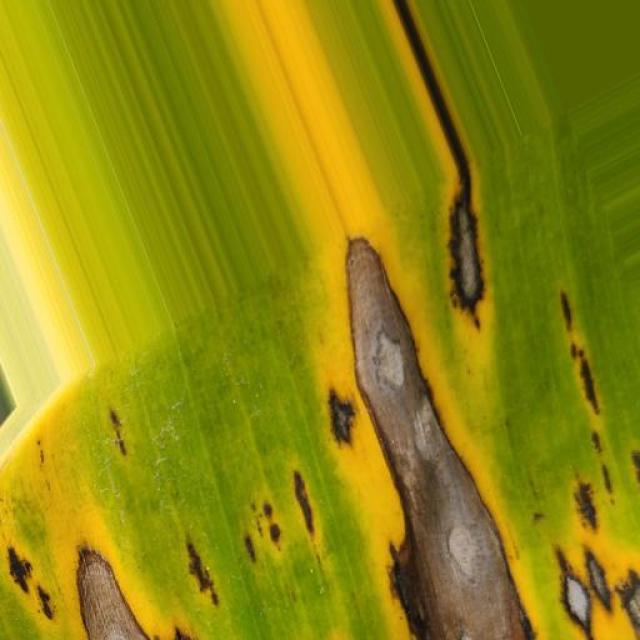Early_rust: (0, 168, 640, 640)
